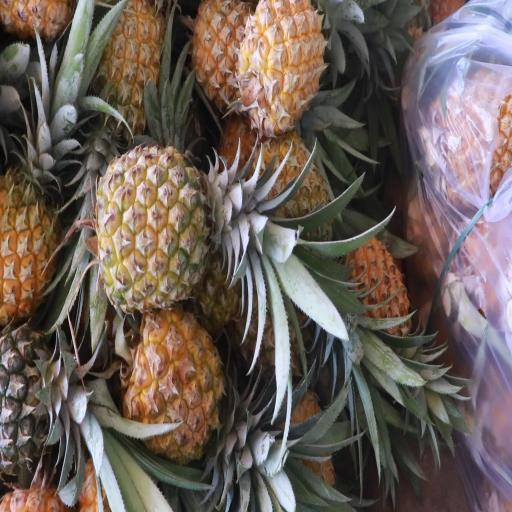Pineapple - v8 v1: (98, 132, 262, 295), (340, 231, 447, 429), (126, 291, 232, 474), (0, 129, 86, 312), (233, 0, 354, 127), (104, 3, 172, 128)
